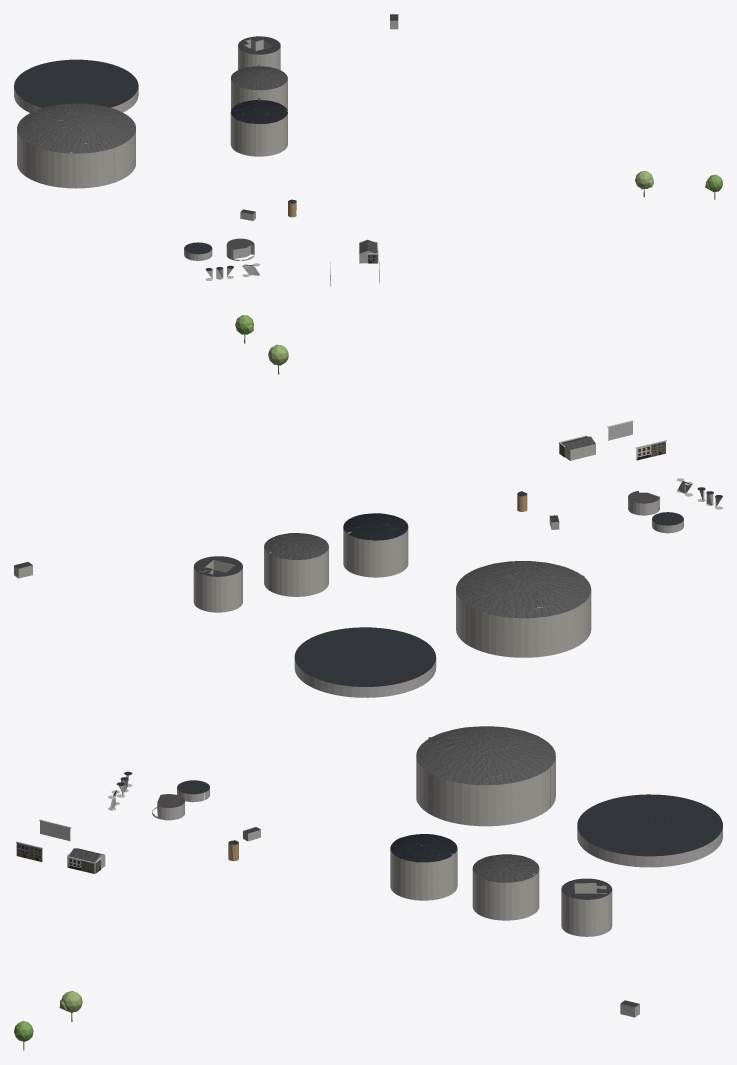
3 views of the same model, one above another, from view 1: azimuth 30°, elevation 25°; view 2: azimuth 150°, elevation 25°; view 3: azimuth 270°, elevation 25° (orthographic). The views are drawn at different scales.
Parts seen in each view (by area): view 1: bldg_6000064309_roof, bldg_6000064294_roof, bldg_6000064294, bldg_6000064323, bldg_6000064323_roof, bldg_6000064329_roof, bldg_6000064329, bldg_6000064333, bldg_6000064333_roof, bldg_6000064309; view 2: bldg_6000064309_roof, bldg_6000064294_roof, bldg_6000064294, bldg_6000064323, bldg_6000064329, bldg_6000064333, bldg_6000064309, bldg_6000064323_roof, bldg_6000064329_roof, bldg_6000064333_roof; view 3: bldg_6000064309_roof, bldg_6000064294_roof, bldg_6000064294, bldg_6000064323, bldg_6000064329, bldg_6000064333, bldg_6000064309, bldg_6000064323_roof, bldg_6000064329_roof, bldg_6000064333_roof.
Boxes of the visible parts, x1,y1,x2,y2 form: bldg_6000064309_roof: [14, 59, 138, 107]; bldg_6000064294_roof: [17, 103, 135, 153]; bldg_6000064294: [17, 105, 135, 188]; bldg_6000064323: [230, 99, 287, 156]; bldg_6000064323_roof: [231, 98, 287, 123]; bldg_6000064329_roof: [231, 65, 287, 90]; bldg_6000064329: [231, 65, 287, 109]; bldg_6000064333: [238, 38, 280, 69]; bldg_6000064333_roof: [238, 36, 280, 54]; bldg_6000064309: [14, 86, 138, 112]; bldg_6000064309_roof: [294, 627, 435, 686]; bldg_6000064294_roof: [456, 561, 591, 618]; bldg_6000064294: [456, 562, 591, 657]; bldg_6000064323: [343, 513, 408, 577]; bldg_6000064329: [264, 534, 328, 596]; bldg_6000064333: [193, 560, 242, 612]; bldg_6000064309: [294, 657, 436, 697]; bldg_6000064323_roof: [343, 513, 408, 540]; bldg_6000064329_roof: [264, 533, 328, 559]; bldg_6000064333_roof: [194, 556, 242, 576]; bldg_6000064309_roof: [577, 794, 722, 856]; bldg_6000064294_roof: [416, 726, 555, 785]; bldg_6000064294: [416, 734, 555, 826]; bldg_6000064323: [390, 844, 457, 900]; bldg_6000064329: [472, 859, 539, 920]; bldg_6000064333: [561, 883, 612, 936]; bldg_6000064309: [577, 827, 722, 867]; bldg_6000064323_roof: [390, 834, 457, 862]; bldg_6000064329_roof: [472, 854, 539, 882]; bldg_6000064333_roof: [561, 878, 612, 899].
Size of the model in its own units: 247 by 20.92 by 258.
Materials: 17 (12 with a texture image).
